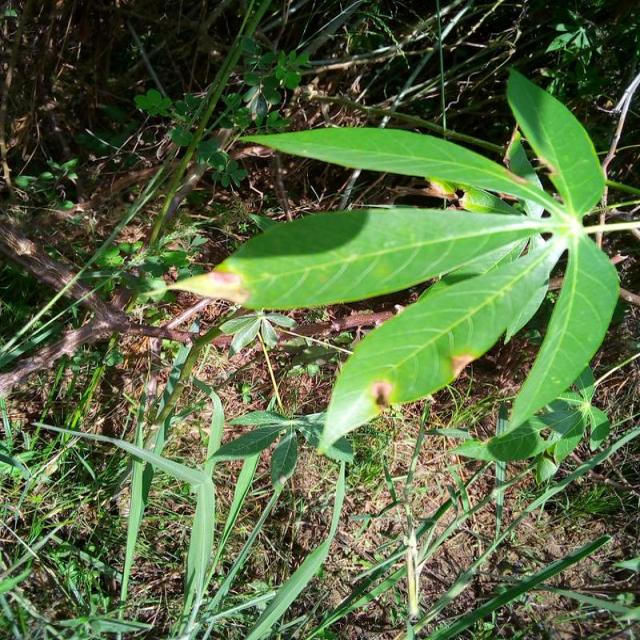cassava leaf: (315, 234, 562, 458), (158, 204, 546, 311), (234, 124, 544, 210), (505, 229, 619, 434), (504, 66, 606, 221)
